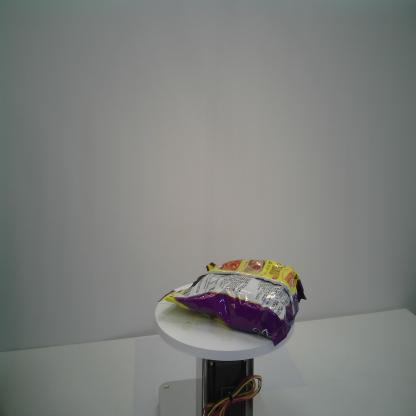Instant Noodles: (155, 257, 309, 348)
